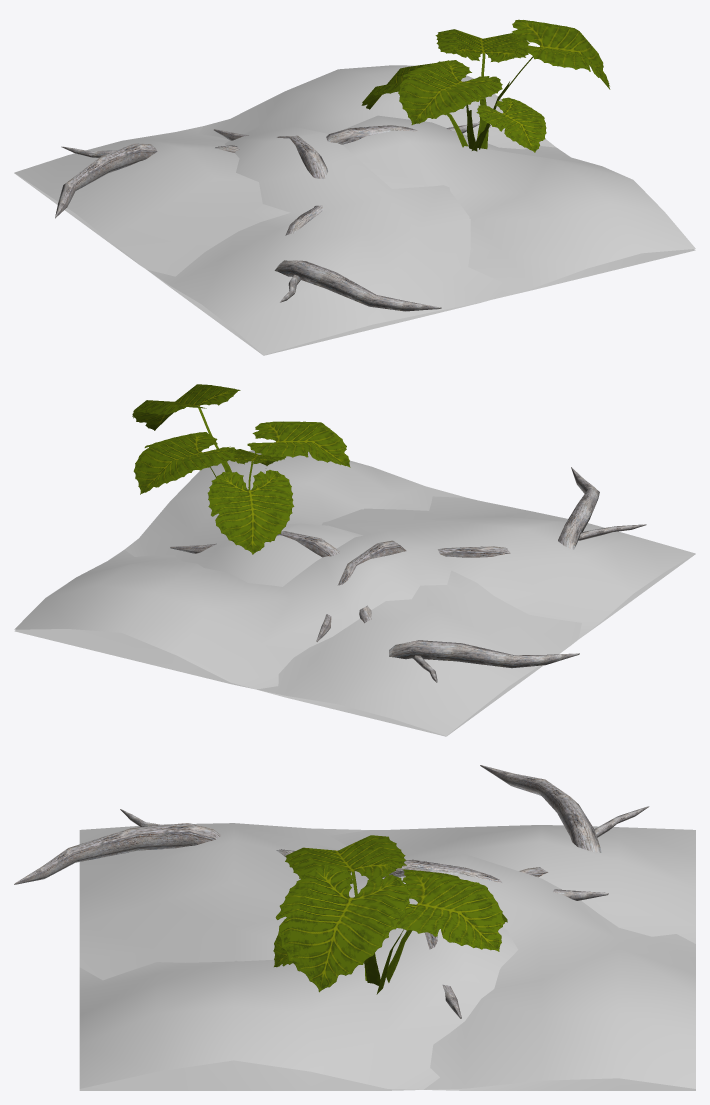
Rendered from Jungle_Clutter.fbx.
3 views of the same model, one above another, from view 1: azimuth 30°, elevation 25°; view 2: azimuth 150°, elevation 25°; view 3: azimuth 270°, elevation 25° (orthographic). The views are drawn at different scales.
Parts seen in each view (by area): view 1: Clutter_A, Clutter_B; view 2: Clutter_A, Clutter_B; view 3: Clutter_A, Clutter_B.
Boxes of the visible parts, left/top/right/bottom form: Clutter_A: left=14, top=19, right=695, bottom=355; Clutter_B: left=14, top=65, right=695, bottom=355; Clutter_A: left=14, top=384, right=695, bottom=736; Clutter_B: left=14, top=467, right=695, bottom=736; Clutter_A: left=79, top=765, right=695, bottom=1090; Clutter_B: left=14, top=809, right=695, bottom=1090.
Size of the model in its own units: 356 by 122 by 332.
